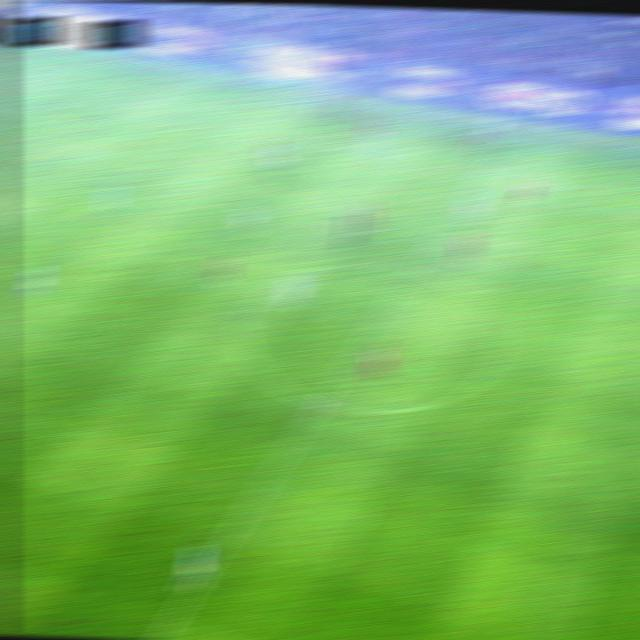bigarea_top_inner: (67, 116, 96, 136)
halfcircle_bottom: (303, 391, 335, 416)
halfcircle_top: (397, 260, 429, 282)
midline_top_intersection: (496, 131, 519, 150)
